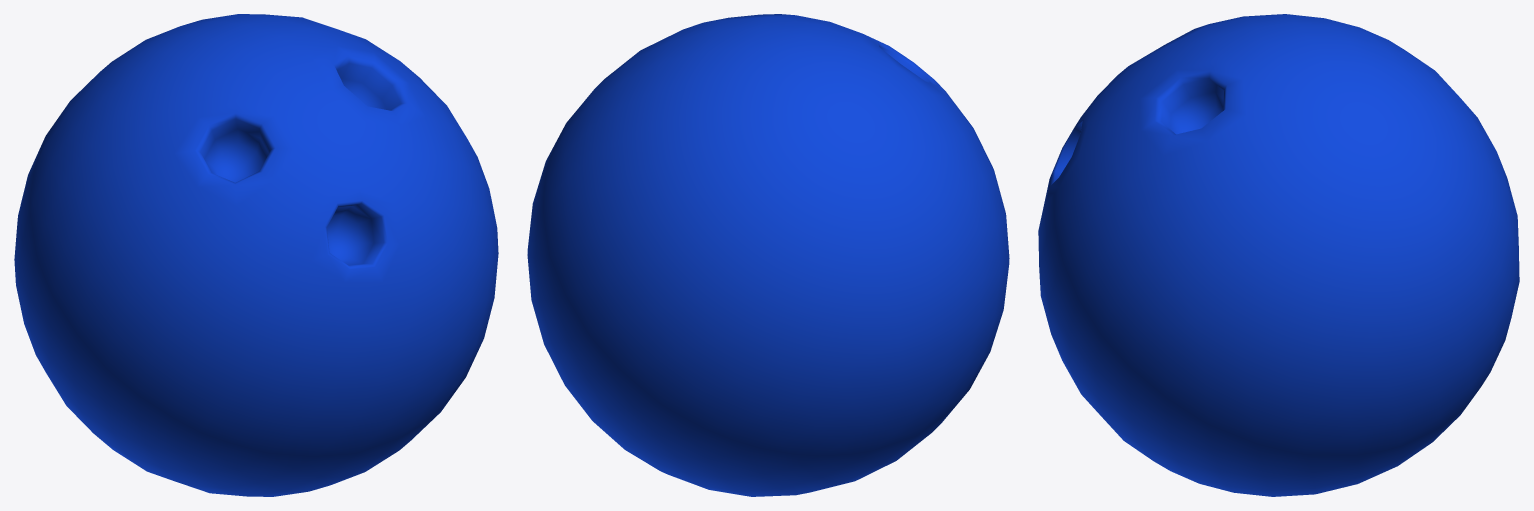
The model's file is bowlingBall21.obj.
3 renders of one model, left to right at view 1: azimuth 30°, elevation 25°; view 2: azimuth 150°, elevation 25°; view 3: azimuth 270°, elevation 25°, orthographic.
Visible parts, largest first — view 1: bowlingBall21; view 2: bowlingBall21; view 3: bowlingBall21.
Part boxes in pixels (<box>): bowlingBall21: <box>14,14,498,496</box>; bowlingBall21: <box>527,14,1009,496</box>; bowlingBall21: <box>1038,14,1519,496</box>.
Size of the model in its own units: 0.1724 by 0.1722 by 0.172.
